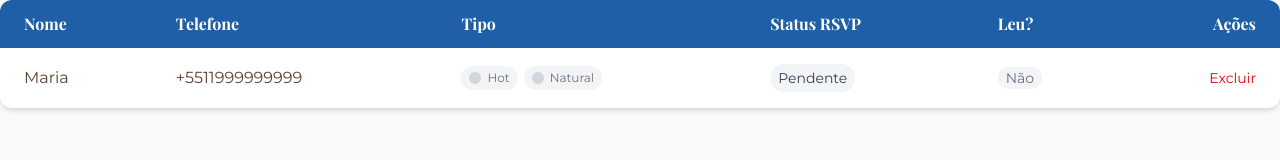
Test: GuestsTable > Batch Edits › should rollback on save failure
The image size is (1280, 160).
Click the button "Maria": (76,78) left=24, top=66, right=128, bottom=90
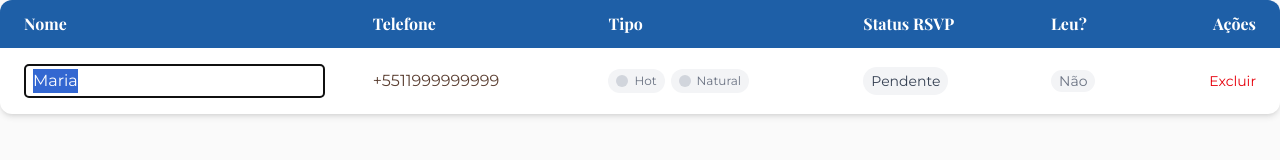
Replace the text in the field showing "Maria" with "Maria Oliveira": (174,81) left=24, top=64, right=325, bottom=98
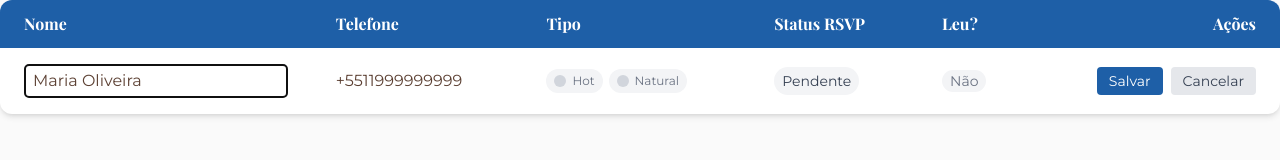
Press Enter in the field showing "Maria", box left=24, top=64, right=288, bottom=98
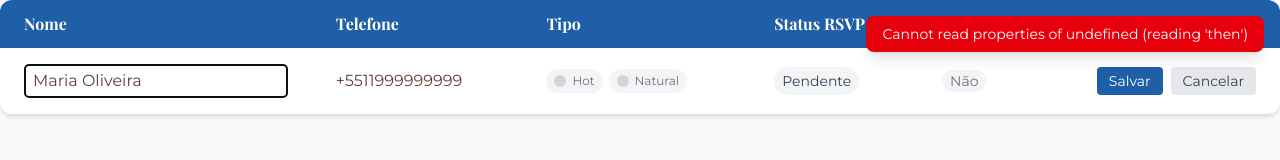
expect the button "Salvar" is shown: met
Click the button "Salvar": (1130,81) left=1097, top=67, right=1163, bottom=95
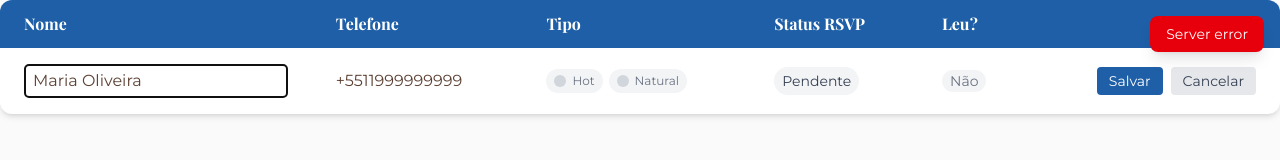
expect the text "Server error" is shown: met, box left=1150, top=16, right=1264, bottom=52
